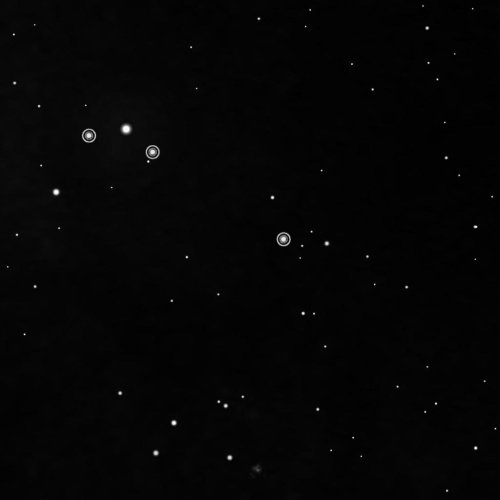vulpecula: (77, 124, 295, 251)
